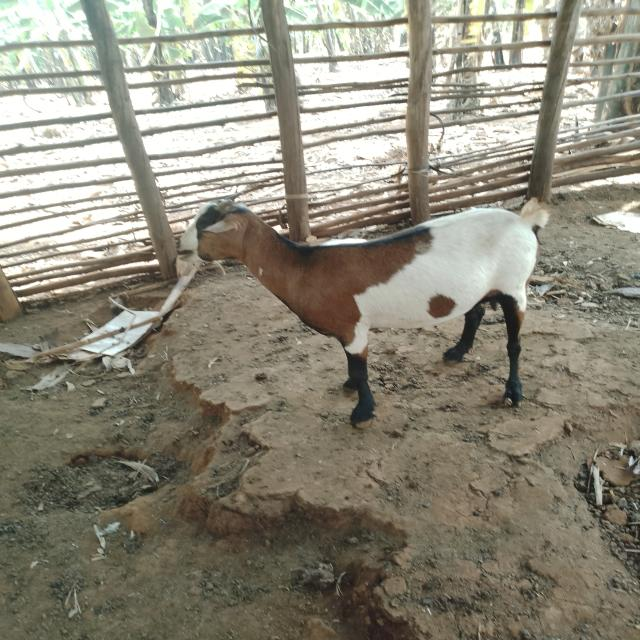goat: (134, 139, 603, 470)
